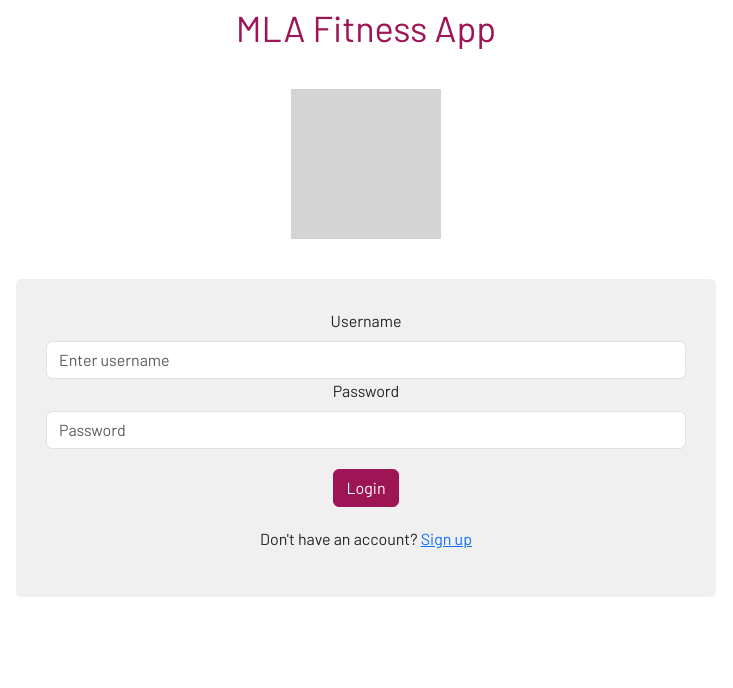
Test case: login › should show error if user not recognised
Step 1. Type "cfg_student" into the field labelled "Username" → (366, 360), box x1=46 y1=341 x2=686 y2=379
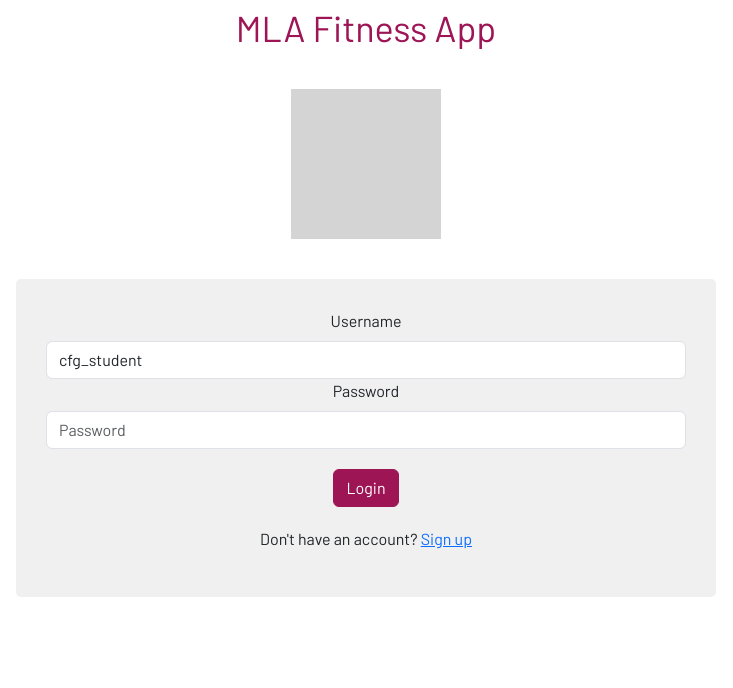
Step 2. Type "12345678" into the password field labelled "Password" → (366, 430), box x1=46 y1=411 x2=686 y2=449
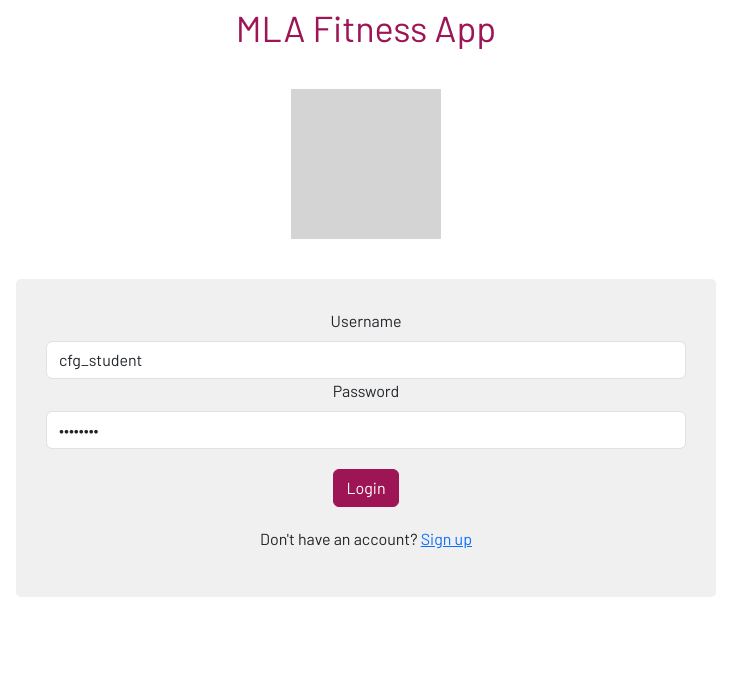
Step 3. Click the button "Login" → (366, 488), box x1=334 y1=469 x2=399 y2=507
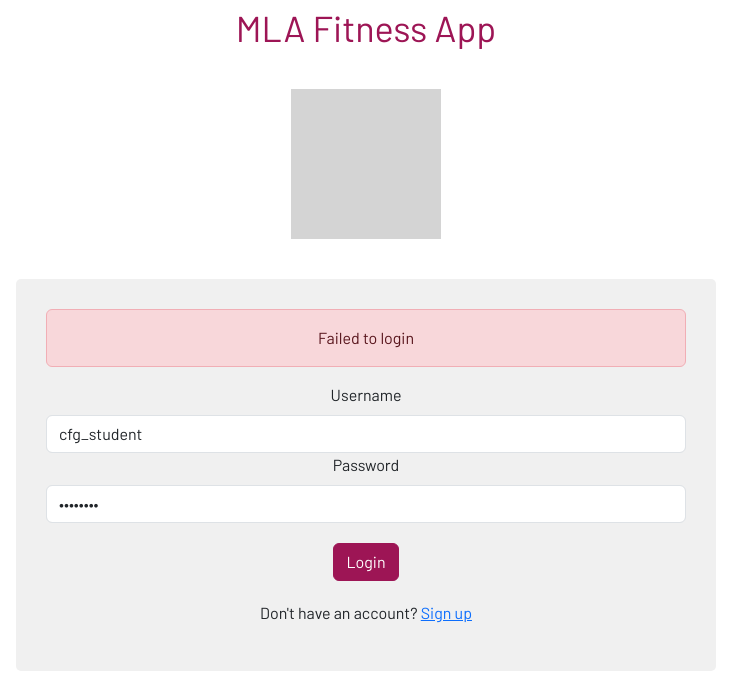
expect the text "Failed to login" is shown: met, box x1=46 y1=309 x2=686 y2=367
